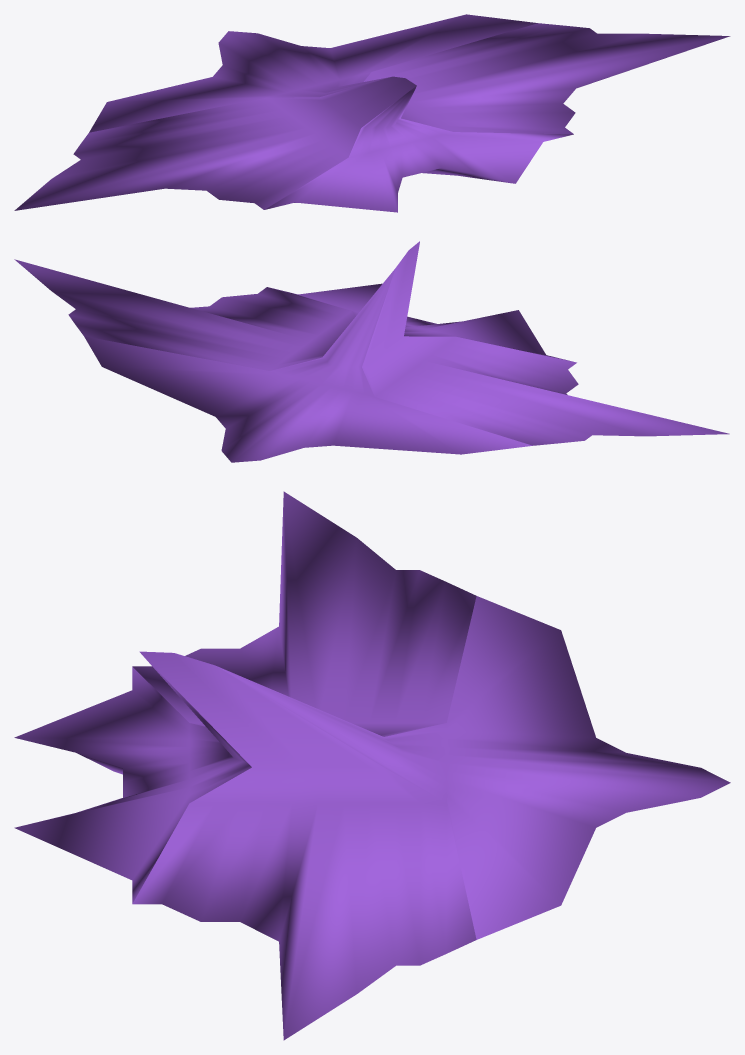
Rendered from flyer_01.glb.
3 views of the same model, one above another, from view 1: azimuth 30°, elevation 25°; view 2: azimuth 150°, elevation 25°; view 3: azimuth 270°, elevation 25° (orthographic). The views are drawn at different scales.
Visible parts, largest first — view 1: flyer; view 2: flyer; view 3: flyer.
Part boxes in pixels (bbox=[...]): flyer: bbox=[14, 14, 730, 212]; flyer: bbox=[14, 241, 729, 462]; flyer: bbox=[14, 491, 730, 1040].
Bounding box in the file's own units: 2.47 × 0.4155 × 1.36.
